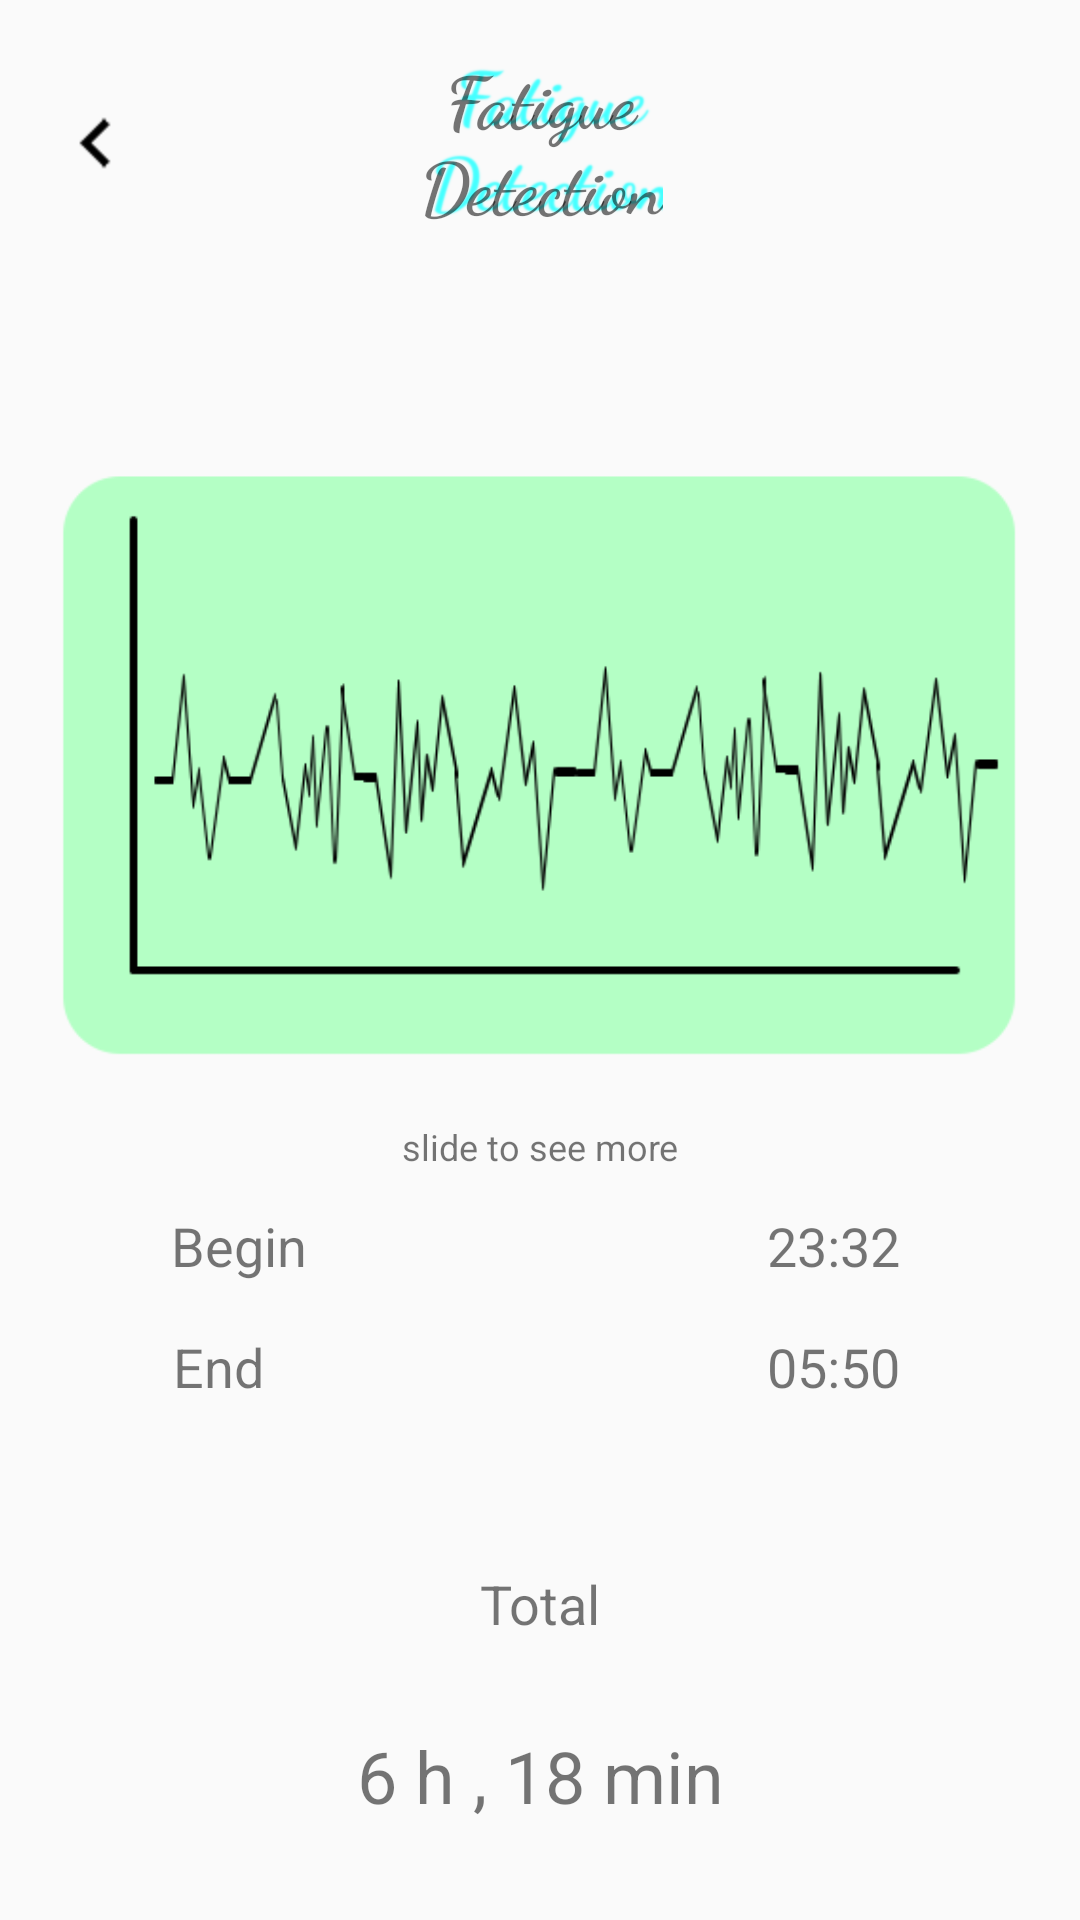

Locate icon controls on the screen. Image size 1080px×1920px, boxes as rect(x1, y1, x2, y2).
keyboard arrow left mid: rect(79, 118, 111, 168)
